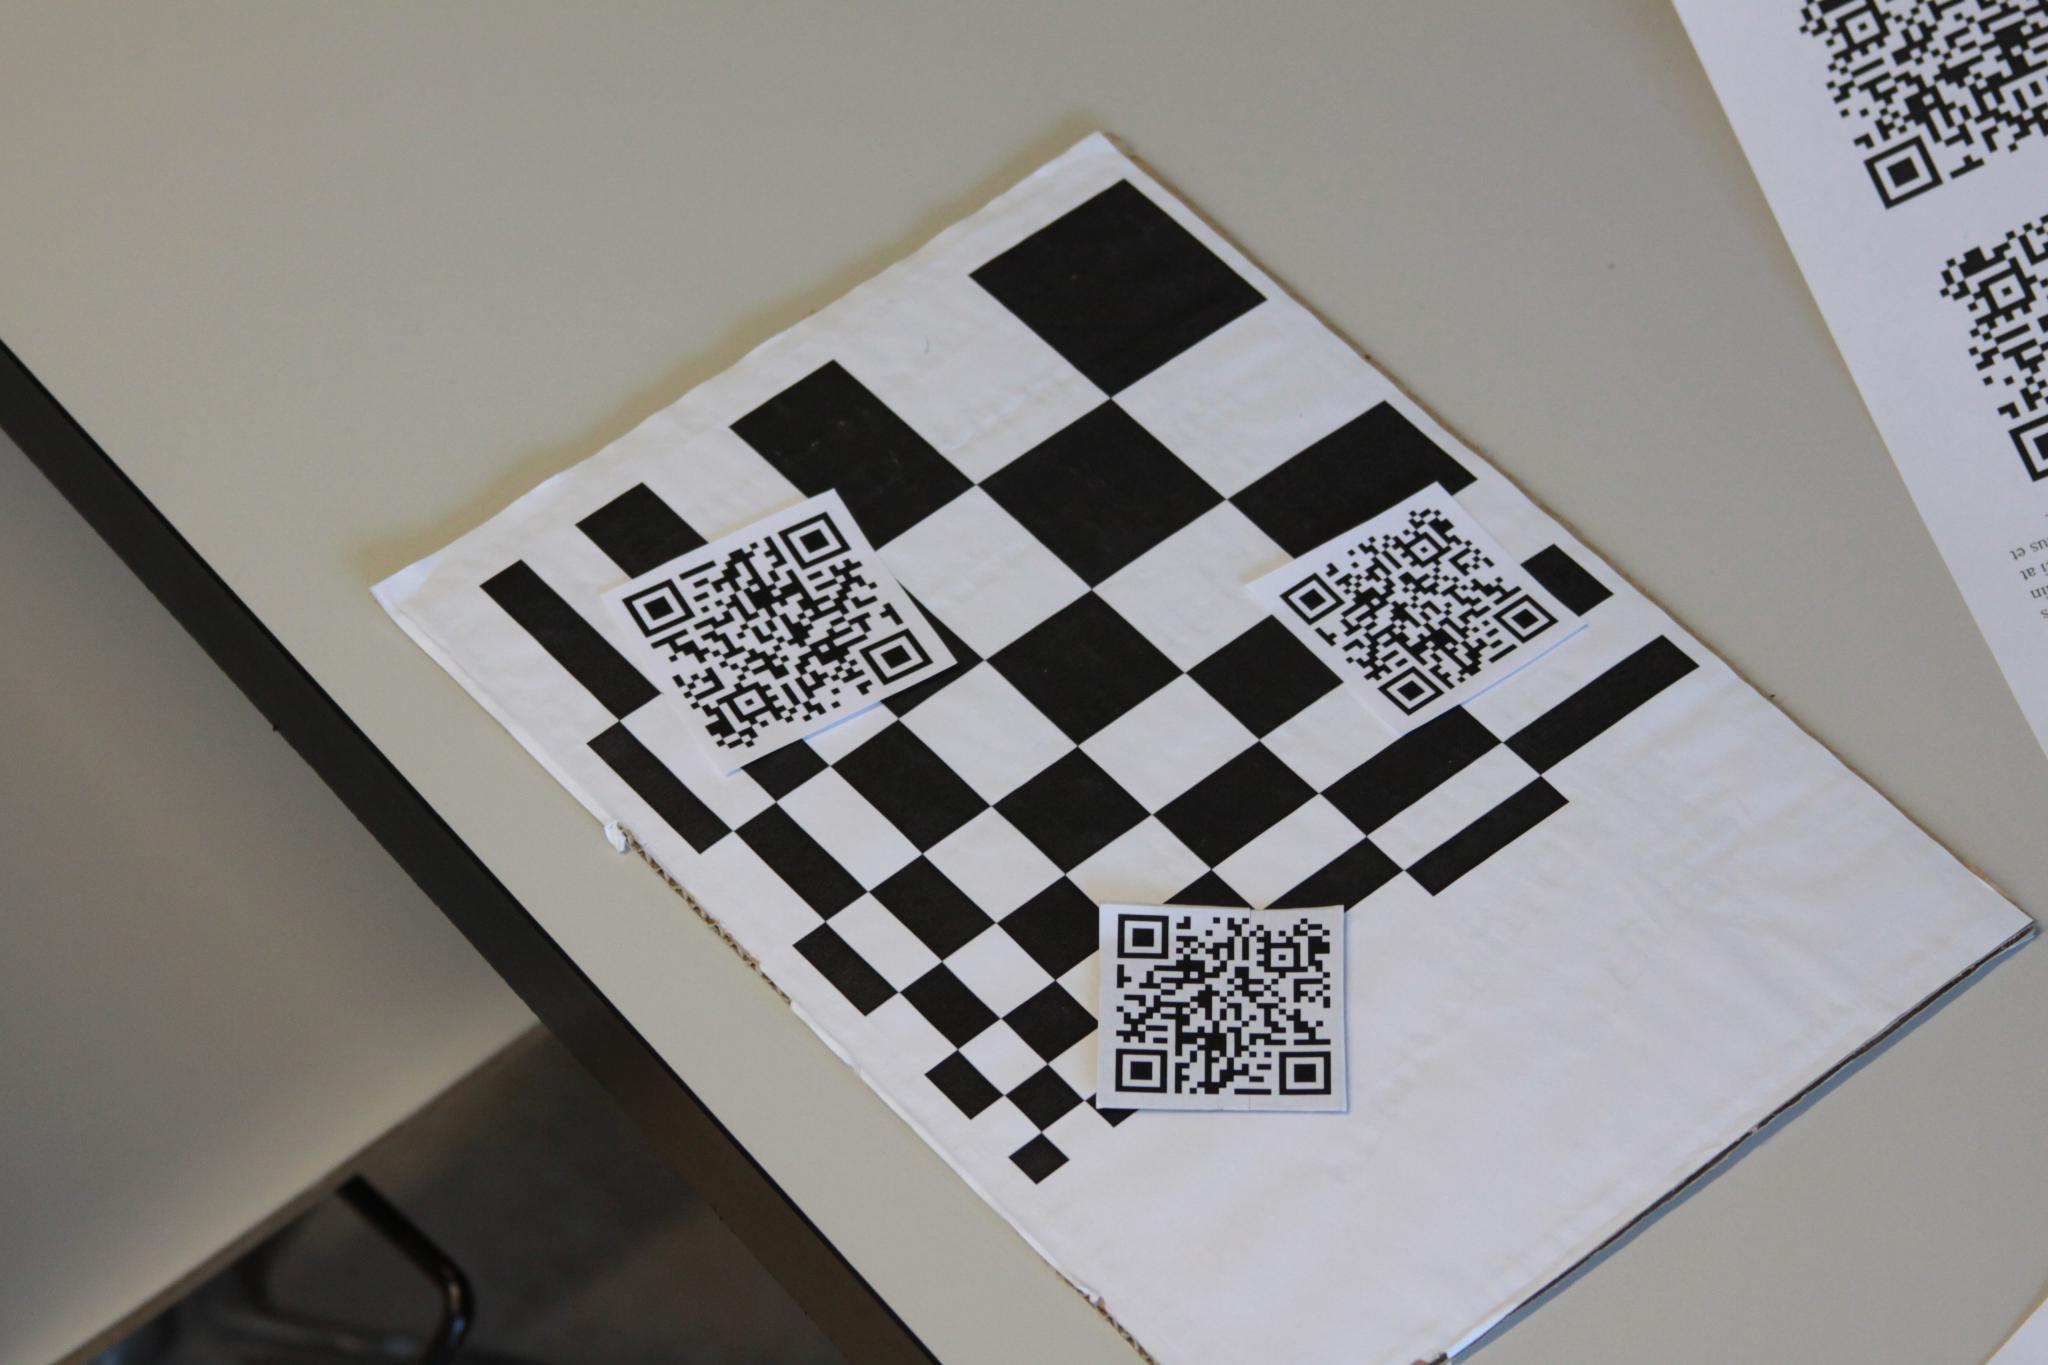Finder pattern: (1864, 129, 1951, 215), (774, 504, 856, 574), (615, 574, 702, 638), (857, 623, 936, 687), (1110, 1036, 1176, 1104), (1109, 906, 1179, 970), (1276, 576, 1354, 629), (1273, 1044, 1338, 1101), (1376, 667, 1445, 718), (1494, 590, 1553, 646), (2008, 407, 2046, 494)
